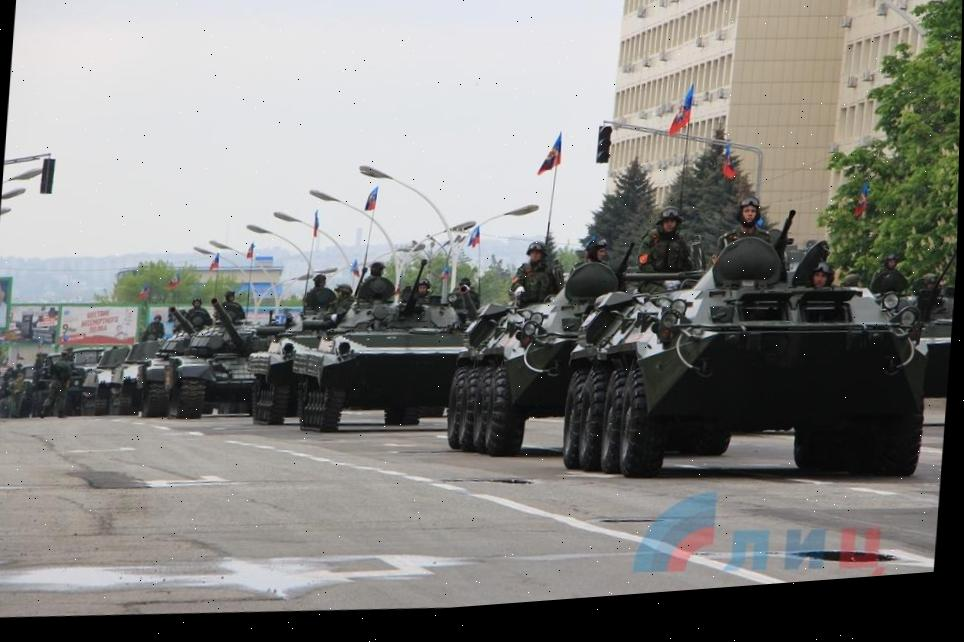person: (712, 190, 793, 281), (634, 195, 703, 285), (508, 234, 569, 310), (513, 237, 566, 309), (41, 347, 78, 421), (7, 368, 30, 421)
tank: (553, 232, 943, 506), (293, 305, 471, 445), (445, 287, 582, 467), (171, 307, 261, 436), (243, 300, 307, 422), (139, 326, 184, 432)
